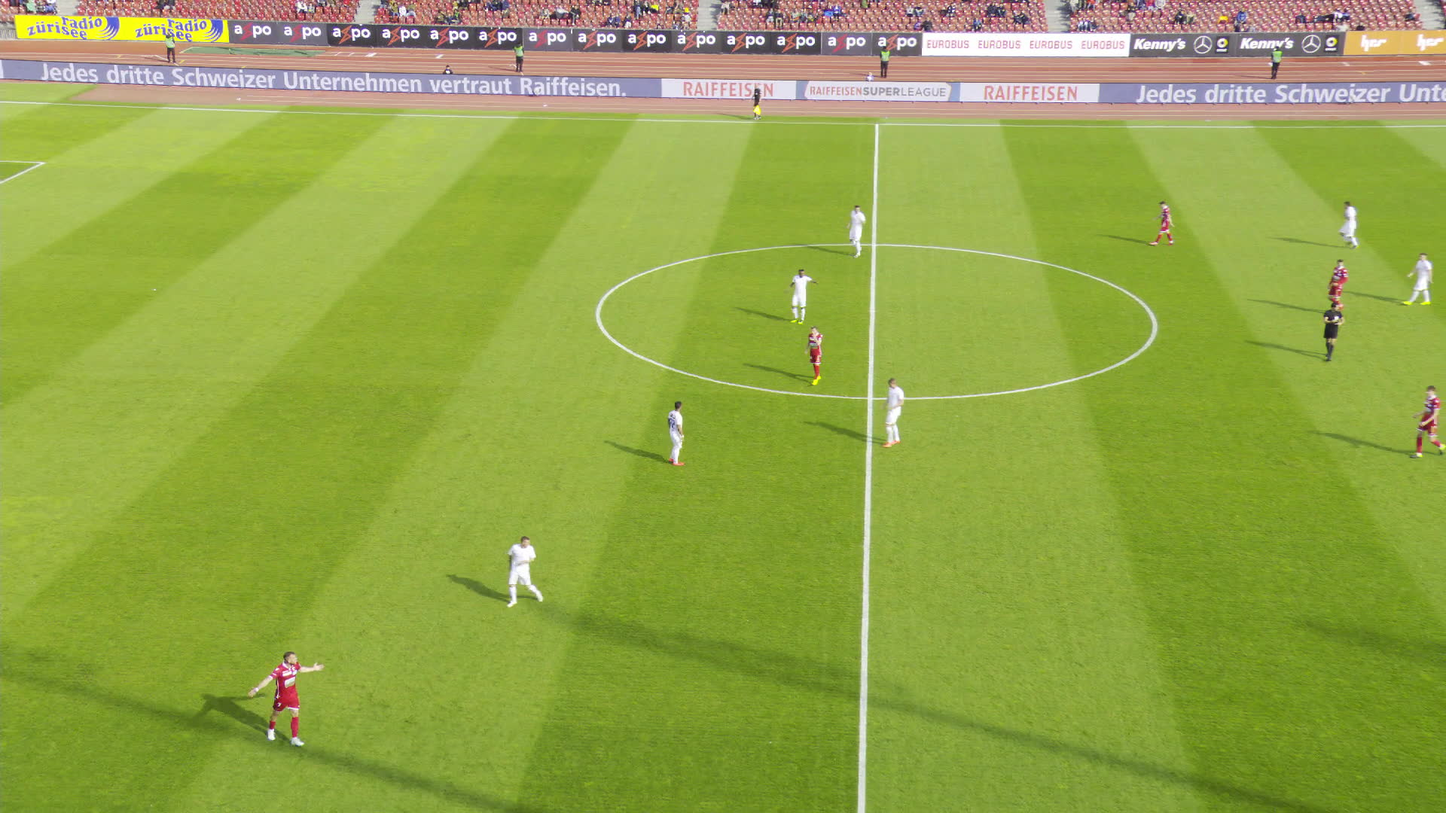player: (239, 645, 319, 746), (496, 531, 541, 614), (1410, 385, 1445, 461), (654, 397, 688, 470), (878, 376, 911, 447), (1401, 249, 1438, 309), (802, 320, 830, 388), (786, 266, 815, 325), (1325, 257, 1350, 321), (844, 202, 873, 257), (1148, 199, 1176, 248), (1338, 196, 1362, 248)
referee: (1319, 298, 1346, 363), (750, 81, 764, 119)
